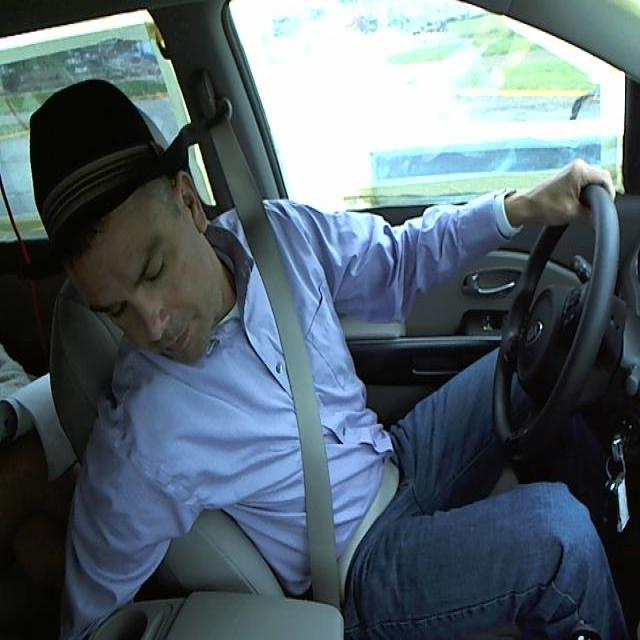seatbelt: (233, 212, 396, 593)
